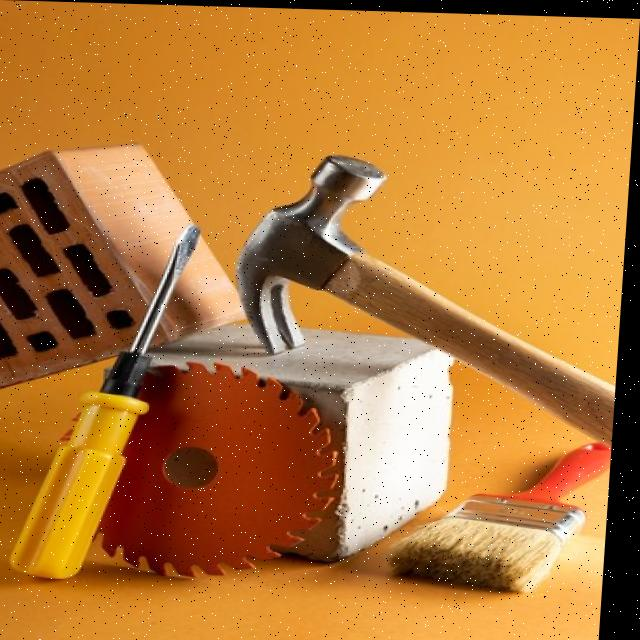Screwdriver: (18, 224, 202, 578)
